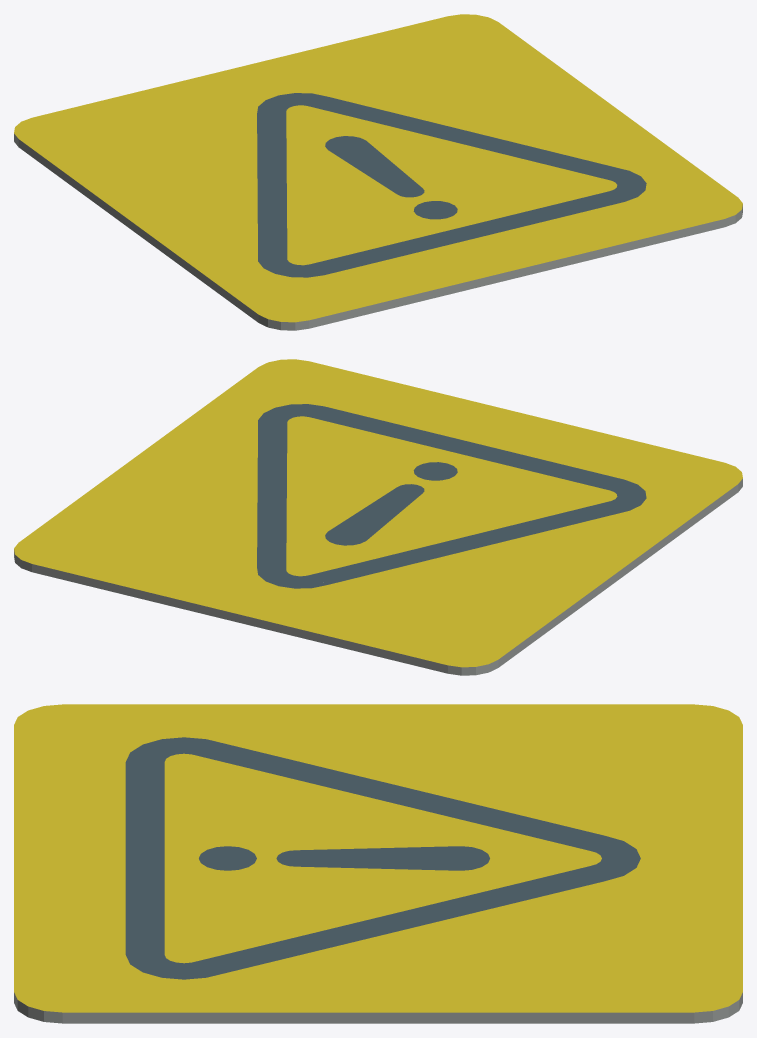
3 views of the same model, one above another, from view 1: azimuth 30°, elevation 25°; view 2: azimuth 150°, elevation 25°; view 3: azimuth 270°, elevation 25° (orthographic). The views are drawn at different scales.
Parts seen in each view (by area): view 1: world; view 2: world; view 3: world.
Part boxes in pixels (x1,y1,x2,y2): world: [14, 14, 742, 330]; world: [14, 359, 742, 675]; world: [14, 704, 742, 1023].
Size of the model in its own units: 0.006 by 0.0001 by 0.006.
